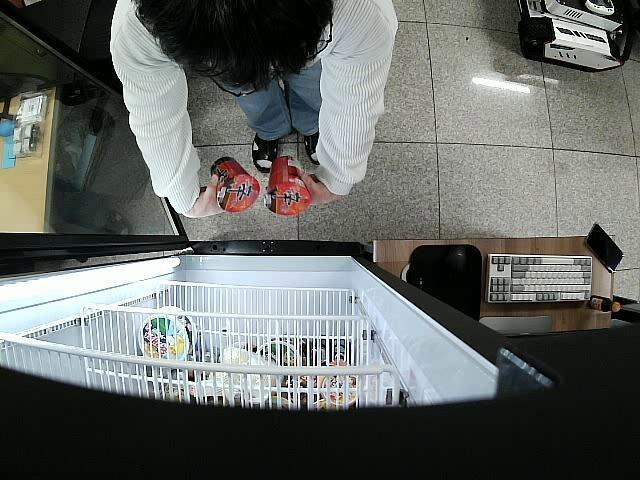02_shinRamen_S: (211, 156, 260, 213), (265, 156, 310, 216)
